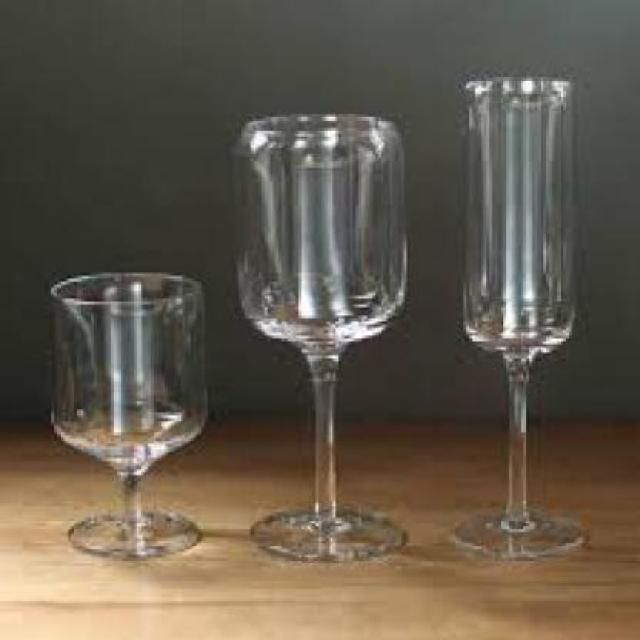kaca: (228, 111, 406, 557), (459, 74, 583, 557), (49, 268, 203, 557)
